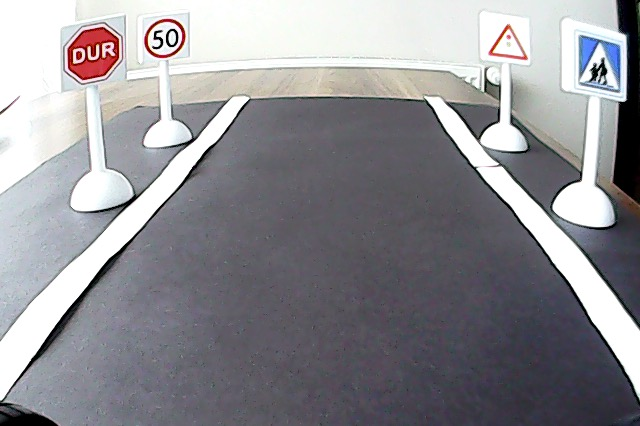red light: (485, 13, 530, 63)
school crossing: (570, 28, 623, 95)
speed limit 50: (141, 16, 189, 56)
stop sign: (59, 25, 125, 86)
